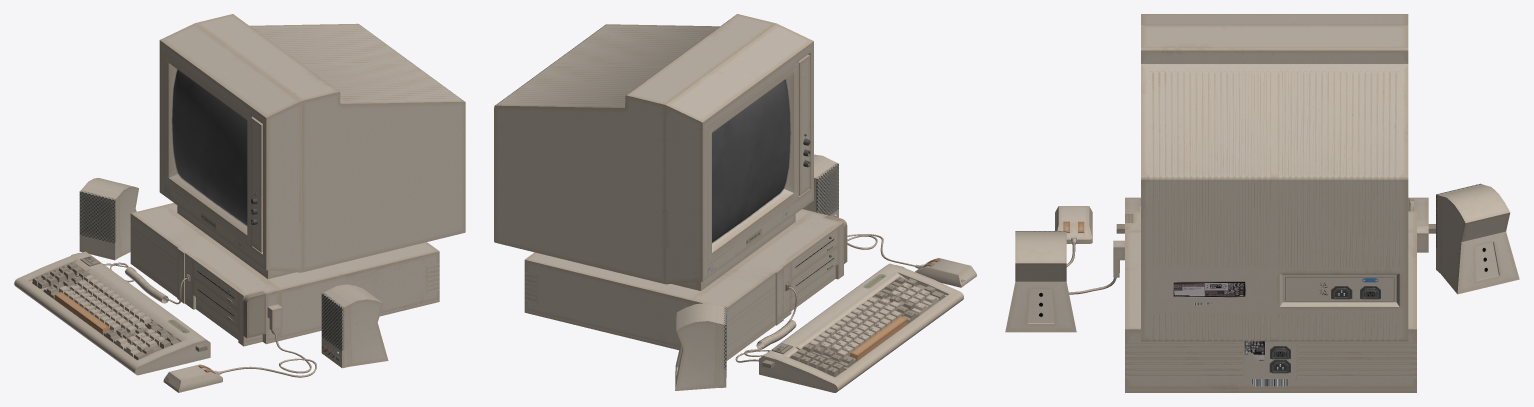
File: SM_Computer_01a.fbx
3 renders of one model, left to right at view 1: azimuth 30°, elevation 25°; view 2: azimuth 150°, elevation 25°; view 3: azimuth 270°, elevation 25°, orthographic. The views are drawn at different scales.
Visible parts, largest first — view 1: SM_Computer_01a_LOD0; view 2: SM_Computer_01a_LOD0; view 3: SM_Computer_01a_LOD0.
Boxes of the visible parts, box(x1,y1,x2,y2) form: SM_Computer_01a_LOD0: box(14, 14, 465, 392); SM_Computer_01a_LOD0: box(494, 14, 976, 392); SM_Computer_01a_LOD0: box(1005, 14, 1519, 392).
Bounding box in the file's own units: 90.62 × 95.36 × 58.83.
